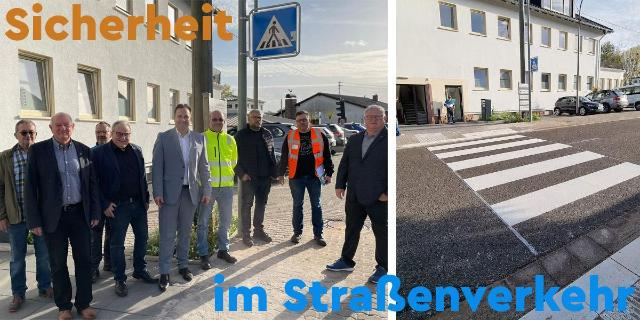crosswalk-sign: (249, 3, 301, 62), (531, 58, 542, 72)
